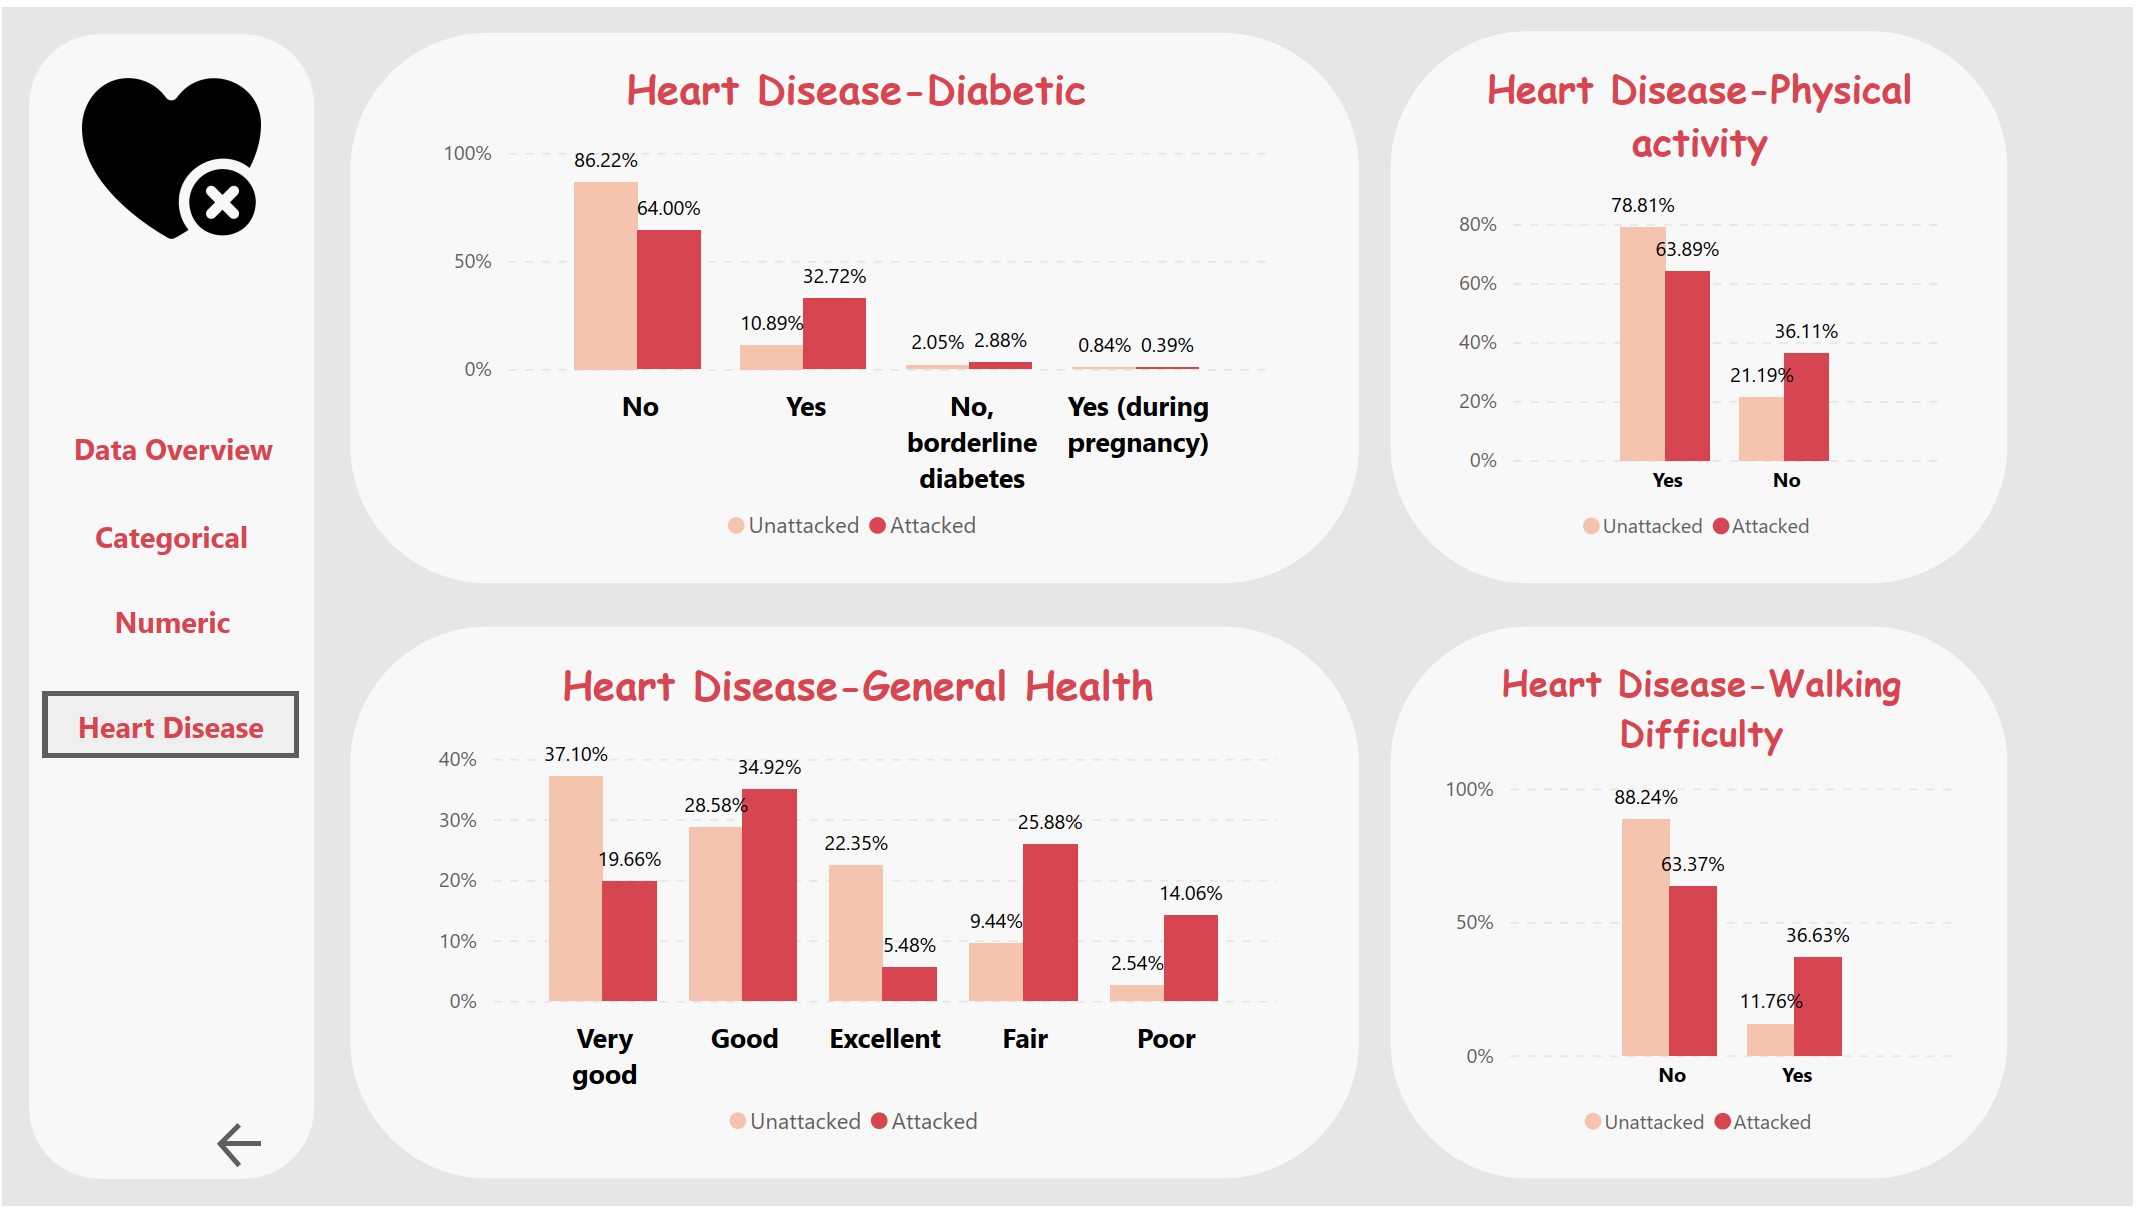

Layout of this report page (visuals, bound fields, positions):
{"tool":"powerbi","page":{"name":"Page5","canvas":[1280,720],"ordinal":4},"visuals":[{"type":"shape","box":[14.6,14.6,173.4,690.2],"z":0},{"type":"image","box":[42.9,31.4,117.1,118.6],"z":1000},{"type":"shape","box":[208.9,15.3,606.2,331.1],"z":2000},{"type":"clusteredColumnChart","title":"Heart Disease-Diabetic","fields":{"Category":["heart_2020_uncleaned.Diabetic"],"Y":["heart_2020_uncleaned.Total Unattacked","heart_2020_uncleaned.Total Attacked"]},"box":[258.5,31.8,508.2,298],"z":3000},{"type":"shape","box":[834.2,14,370.6,332.4],"z":4000},{"type":"clusteredColumnChart","title":"Heart Disease-Physical activity","fields":{"Category":["heart_2020_uncleaned.PhysicalActivity"],"Y":["heart_2020_uncleaned.Total Unattacked","heart_2020_uncleaned.Total Attacked"]},"box":[869.9,31.8,300.6,298],"z":5000},{"type":"shape","box":[208.9,371.9,606.2,332.4],"z":6000},{"type":"clusteredColumnChart","title":"Heart Disease-General Health","fields":{"Category":["heart_2020_uncleaned.GenHealth"],"Y":["heart_2020_uncleaned.Total Unattacked","heart_2020_uncleaned.Total Attacked"]},"box":[257.3,389.7,513.3,298],"z":7000},{"type":"shape","box":[834.2,371.9,370.6,332.4],"z":8000},{"type":"clusteredColumnChart","title":"Heart Disease-Walking Difficulty","fields":{"Category":["heart_2020_uncleaned.DiffWalking"],"Y":["heart_2020_uncleaned.Total Unattacked","heart_2020_uncleaned.Total Attacked"]},"box":[861,389.7,319.7,298],"z":9000},{"type":"actionButton","box":[25.5,243.5,154.3,40.8],"z":10000},{"type":"actionButton","box":[24.2,410.5,154.3,40.8],"z":11000},{"type":"actionButton","box":[25.5,299.6,153,35.7],"z":12000},{"type":"actionButton","box":[24.2,348,155.5,40.8],"z":13000},{"type":"actionButton","box":[124.9,664.2,35.7,39.5],"z":14000}]}

Visuals, with their boxes in screenshot pixels (x1, y1, x2, y2), scaled from the page's 1280x720 canvas onto the 2142x1208 screenshot:
shape: (24, 24, 315, 1182)
image: (72, 53, 268, 252)
shape: (350, 26, 1364, 581)
"Heart Disease-Diabetic" clusteredColumnChart: (433, 53, 1283, 553)
shape: (1396, 23, 2016, 581)
"Heart Disease-Physical activity" clusteredColumnChart: (1456, 53, 1959, 553)
shape: (350, 624, 1364, 1182)
"Heart Disease-General Health" clusteredColumnChart: (431, 654, 1290, 1154)
shape: (1396, 624, 2016, 1182)
"Heart Disease-Walking Difficulty" clusteredColumnChart: (1441, 654, 1976, 1154)
actionButton: (43, 409, 301, 477)
actionButton: (40, 689, 299, 757)
actionButton: (43, 503, 299, 563)
actionButton: (40, 584, 301, 652)
actionButton: (209, 1114, 269, 1181)
